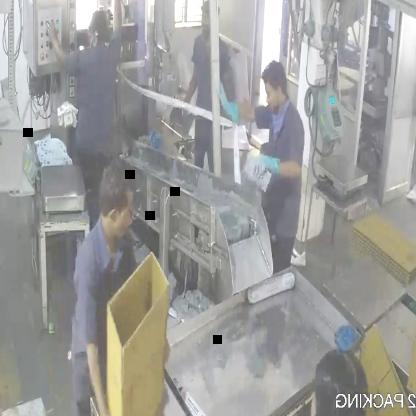glove: (216, 71, 260, 126), (250, 144, 304, 185)
no_glove: (82, 309, 125, 416)
